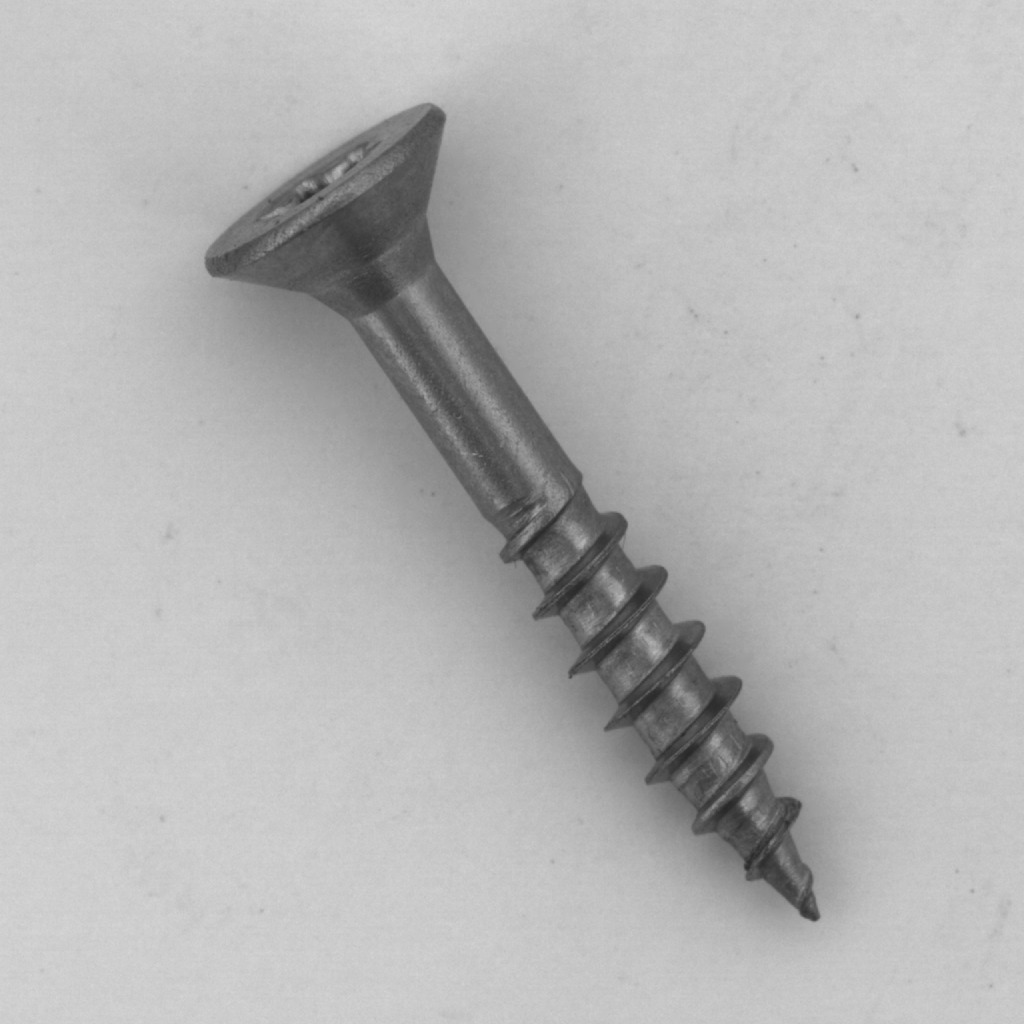good: (192, 96, 851, 937)
